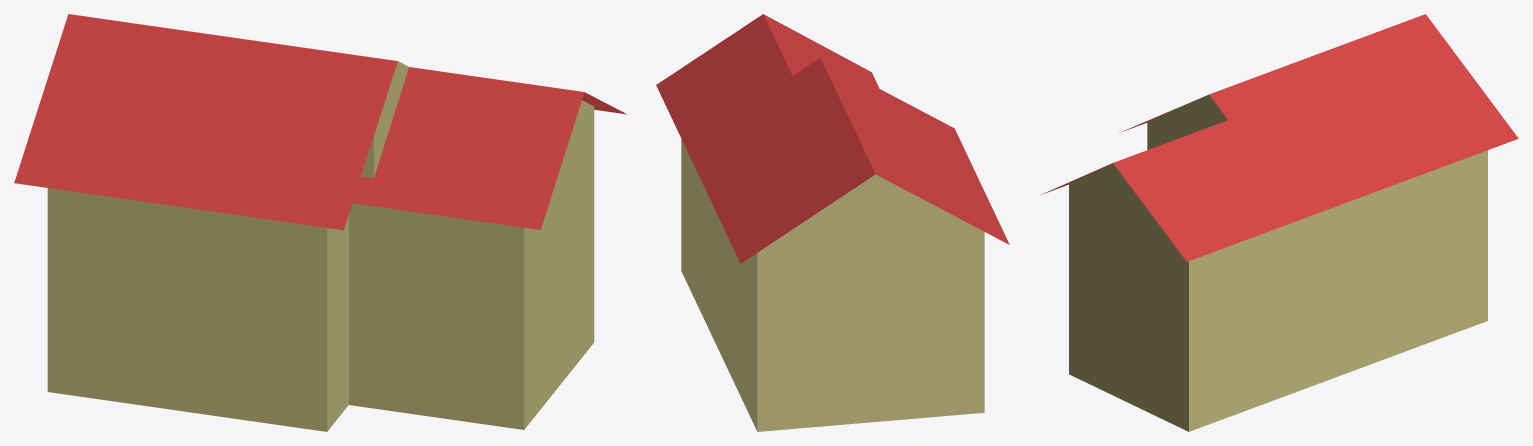
3 renders of one model, left to right at view 1: azimuth 30°, elevation 25°; view 2: azimuth 150°, elevation 25°; view 3: azimuth 270°, elevation 25°, orthographic. The views are drawn at different scales.
Parts seen in each view (by area): view 1: group_5, group_3, group_9, group_7, group_8, group_4; view 2: group_5, group_3, group_4, group_7; view 3: group_5, group_3, group_9, group_4.
Boxes of the visible parts, <box> form: group_5: <box>47,61,594,431</box>; group_3: <box>14,14,626,230</box>; group_9: <box>374,171,559,429</box>; group_7: <box>374,67,584,229</box>; group_8: <box>352,102,580,229</box>; group_4: <box>214,159,343,229</box>; group_5: <box>681,139,984,431</box>; group_3: <box>681,20,1009,263</box>; group_4: <box>656,14,956,263</box>; group_7: <box>763,14,871,77</box>; group_5: <box>1129,94,1487,431</box>; group_3: <box>1115,15,1518,236</box>; group_9: <box>1069,164,1129,402</box>; group_4: <box>1113,14,1518,261</box>.
Size of the model in its own units: 22.96 by 21.94 by 13.25.
